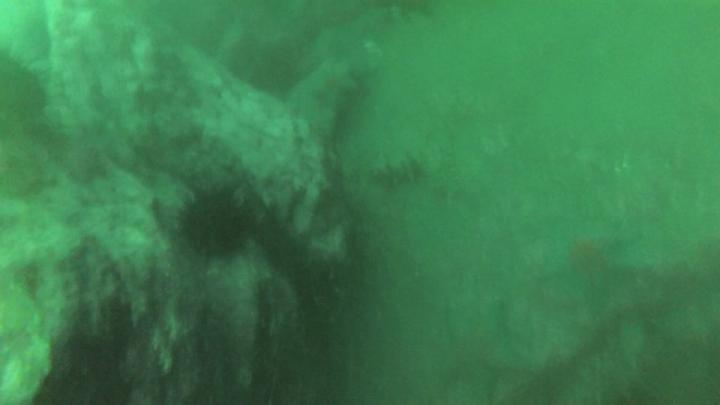echinus: (176, 182, 263, 262), (1, 44, 55, 122)
holothurian: (366, 155, 429, 193)
starfish: (542, 218, 652, 315)
